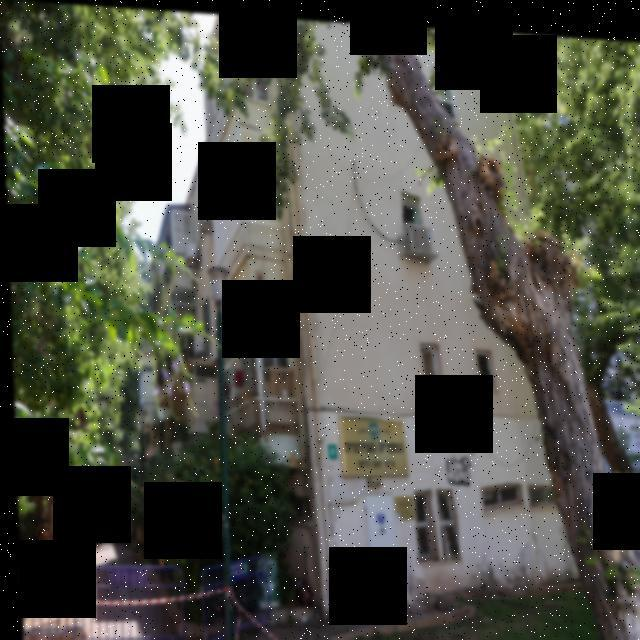Window: (411, 479, 433, 560), (434, 482, 456, 554), (477, 474, 520, 510), (417, 336, 437, 382), (436, 74, 456, 116), (400, 187, 422, 224), (472, 341, 490, 384), (525, 474, 556, 498)
